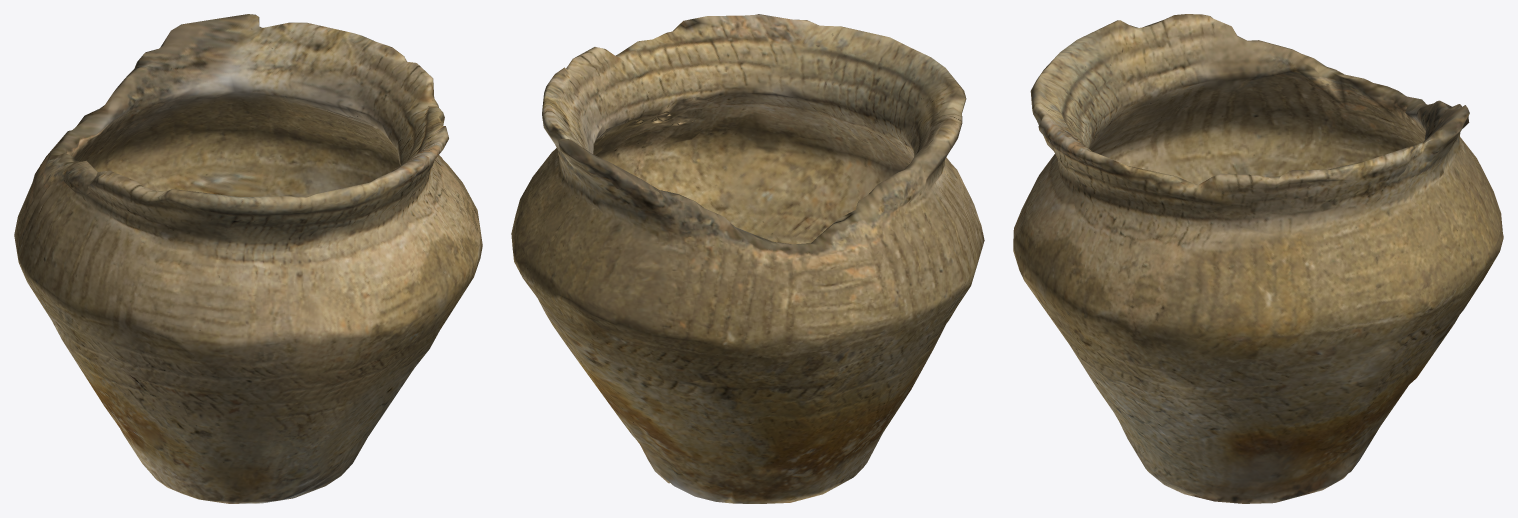
File: Incised_Groove_Pot.fbx
The picture shows the model from 3 angles, left to right: view 1: azimuth 30°, elevation 25°; view 2: azimuth 150°, elevation 25°; view 3: azimuth 270°, elevation 25°; orthographic projection. The views are drawn at different scales.
Visible parts, largest first — view 1: Incised_Groove_Pot_LOD0; view 2: Incised_Groove_Pot_LOD0; view 3: Incised_Groove_Pot_LOD0.
Boxes of the visible parts, bbox=[...] form: Incised_Groove_Pot_LOD0: bbox=[14, 14, 482, 503]; Incised_Groove_Pot_LOD0: bbox=[511, 14, 984, 503]; Incised_Groove_Pot_LOD0: bbox=[1013, 14, 1503, 503].
Size of what is drawn, in the model's own units: 38.34 by 32.61 by 38.33.
